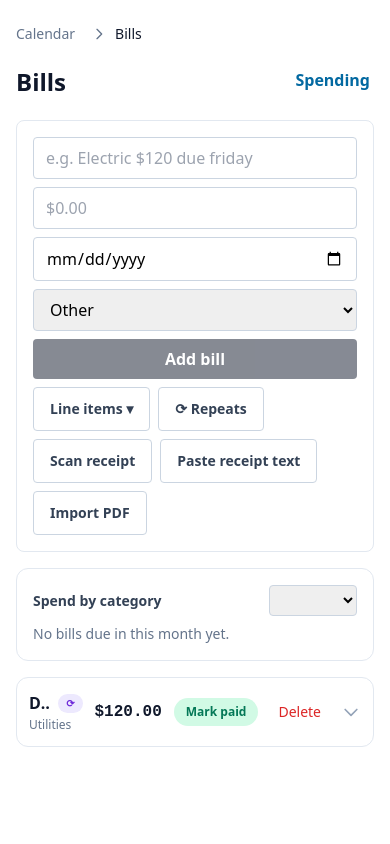
Scenario: recurring bills (#006) › says "Repeats every 2 weeks" for a biweekly schedule
The width and height of the screenshot is (390, 844).
Click the button named "Show details for Dog walker".
click(351, 712)  # box [341,690,361,734]
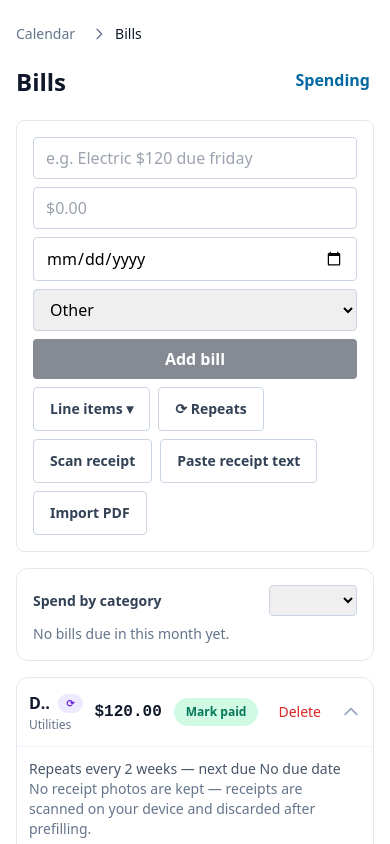
Check: the text "Repeats every 2 weeks — next due No due date" is shown, box [29,759,361,779]
